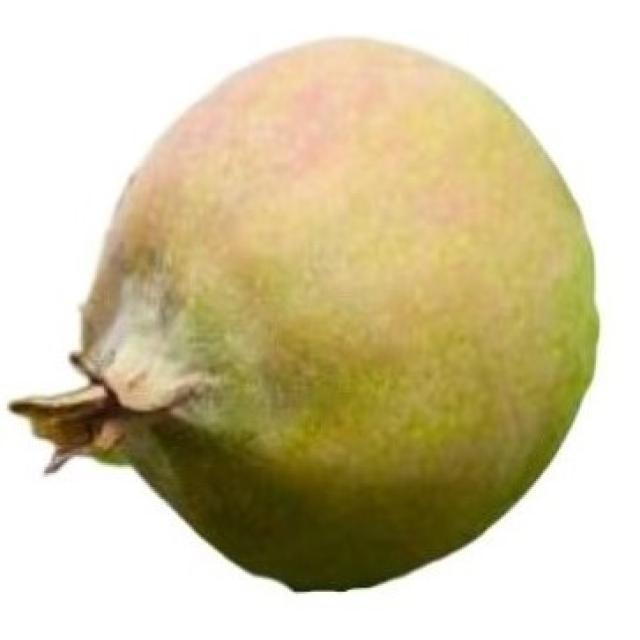50-_ripeness: (64, 38, 611, 594)
